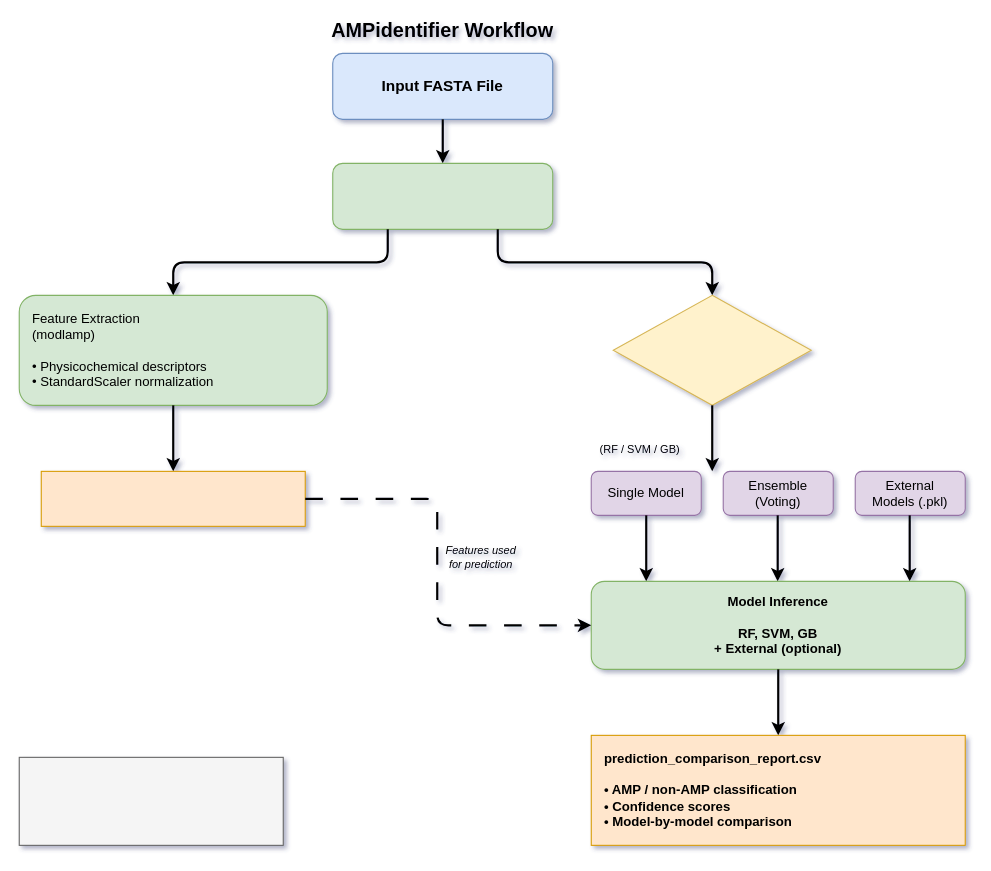
Image size: 991x871. Some labels were removed from this diagram. The shapes that lost their labels are listed below. From the top down, each one's centre as x and y in pixels, then its label:
At pixel 442 195: "AMPidentifier CLI (main.py)".
At pixel 711 349: "Model Selection".
At pixel 172 498: "physicochemical_features.csv".
At pixel 150 800: "RF = Random Forest SVM = Support Vector Machine GB = Gradient Boosting".
